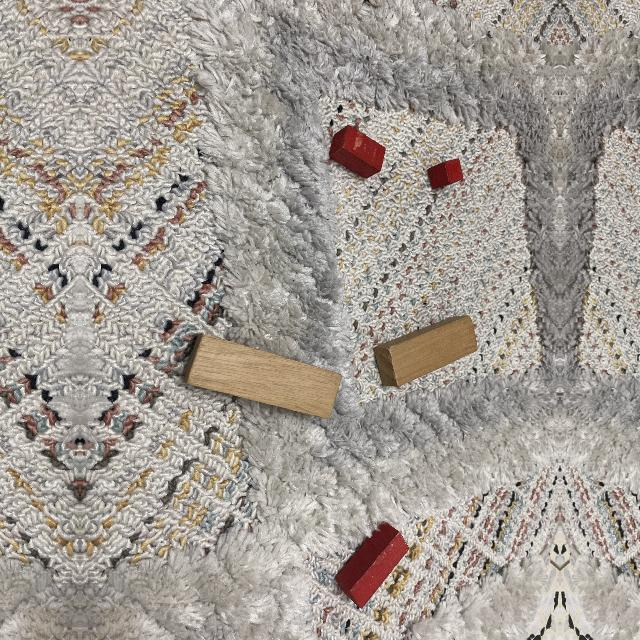jenga: (183, 335, 341, 421), (374, 317, 478, 389)
red block: (334, 524, 410, 609), (328, 125, 387, 180)
red cube: (429, 161, 464, 189)
